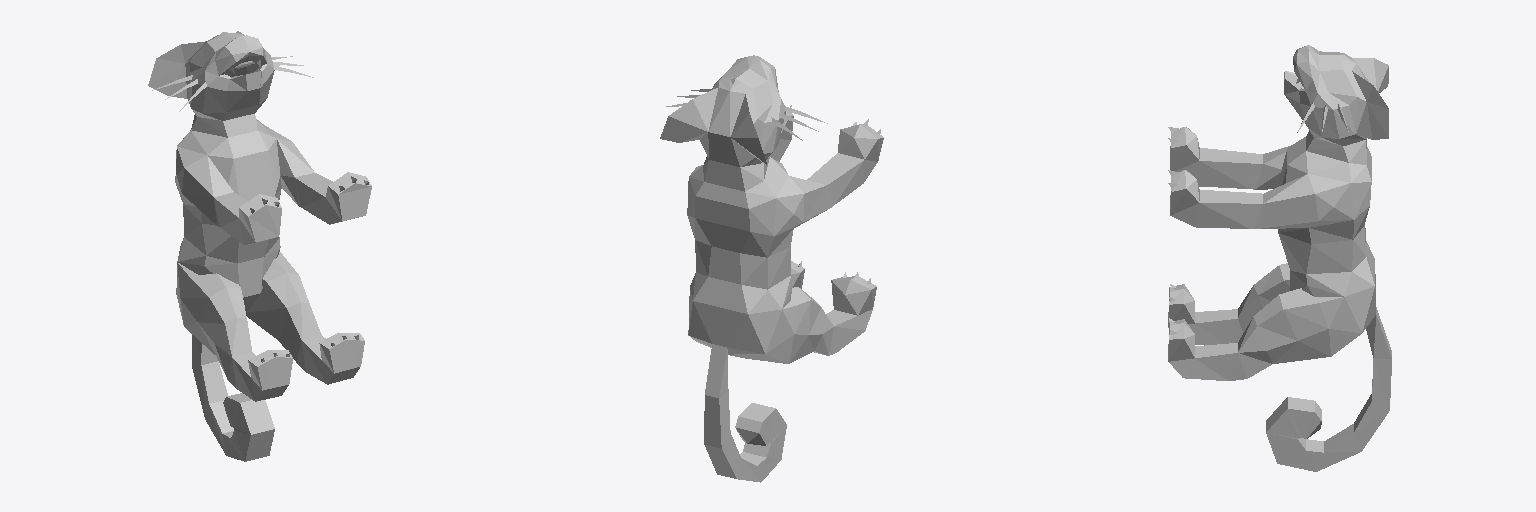
File: BR_Persian-Shiny01.obj
3 views of the same model, side by side, from view 1: azimuth 30°, elevation 25°; view 2: azimuth 150°, elevation 25°; view 3: azimuth 270°, elevation 25° (orthographic).
Visible parts, largest first — view 1: persian; view 2: persian; view 3: persian.
Part boxes in pixels (x1,y1,x2,y2): persian: (148,31,371,461); persian: (660,55,883,482); persian: (1168,45,1391,471).
Bounding box in the file's own units: 5.85 × 16.14 × 7.8.